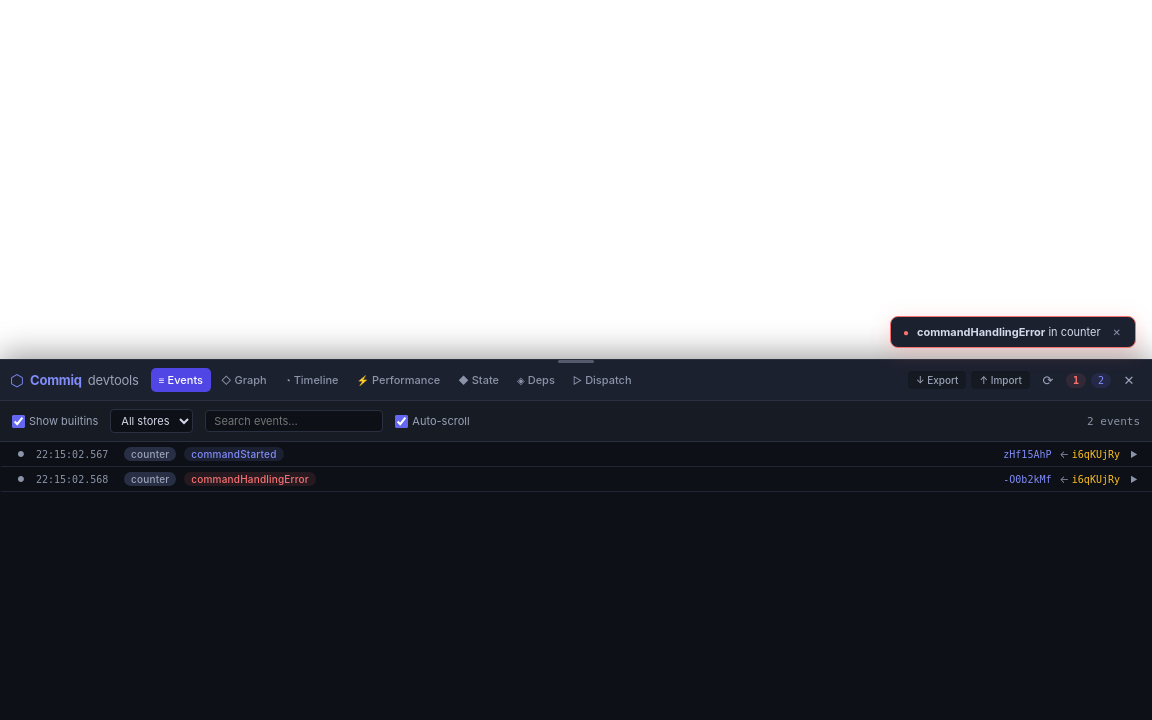
Test: correlation links (DT-13) › focuses the causality chain and switches to the graph tab
Click the 1st text with class "commiq-link" at (1027, 454), box [1003, 449, 1052, 460]
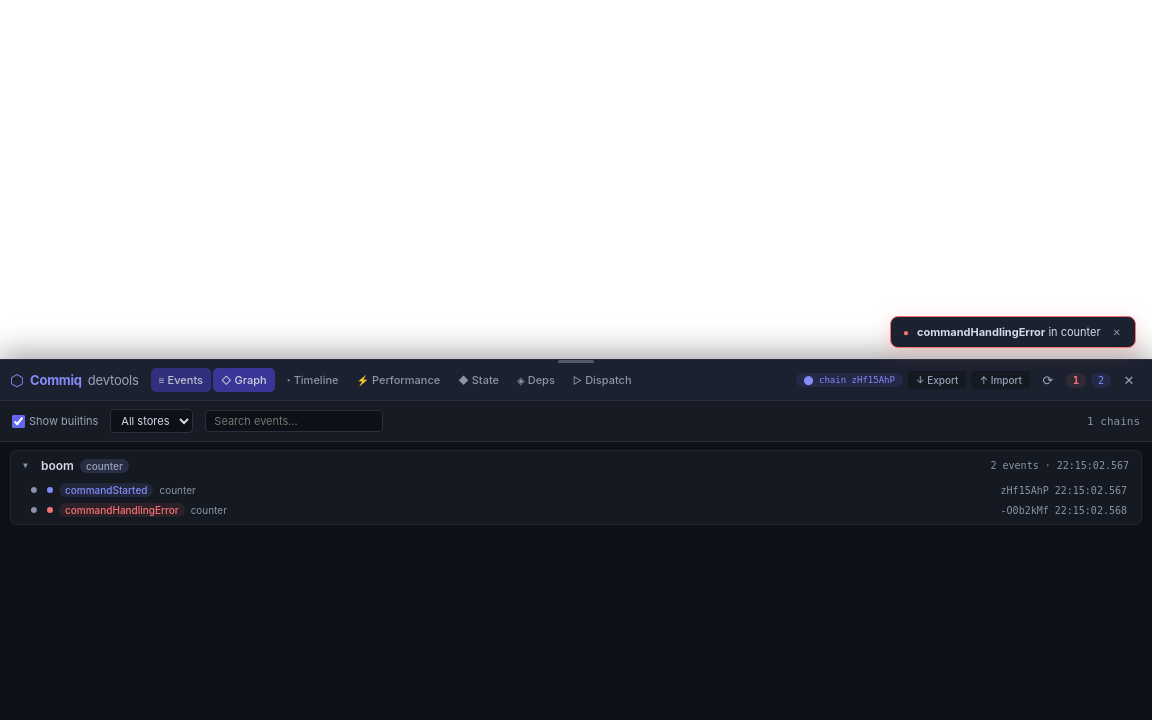
Expected: the button titled "single causality chain" is shown, [796, 373, 903, 387]
